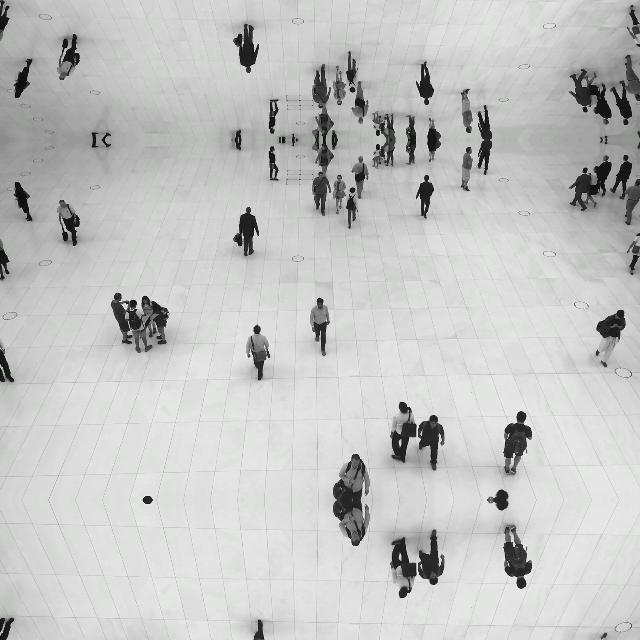person: (503, 411, 533, 475), (503, 525, 533, 589), (333, 454, 371, 500), (333, 500, 371, 546), (596, 310, 626, 368), (390, 402, 418, 462), (390, 538, 418, 598), (417, 415, 445, 471), (417, 529, 445, 585), (124, 299, 152, 353), (232, 206, 260, 256), (232, 24, 260, 74), (246, 324, 270, 382), (310, 298, 330, 357), (111, 292, 133, 344), (56, 200, 80, 247), (146, 300, 170, 346), (56, 34, 80, 80), (568, 168, 592, 212), (568, 68, 592, 112), (611, 154, 633, 200), (611, 80, 633, 126), (312, 171, 332, 217), (312, 63, 332, 109), (350, 82, 370, 125), (350, 156, 370, 198), (416, 174, 434, 220), (416, 61, 434, 106), (624, 178, 640, 226), (624, 54, 640, 102), (13, 181, 32, 221), (13, 59, 32, 99), (141, 294, 157, 338), (314, 144, 334, 178), (314, 102, 334, 136), (596, 155, 612, 197), (596, 83, 612, 125), (0, 339, 14, 383), (626, 232, 640, 276), (626, 5, 640, 48), (461, 146, 474, 192), (461, 88, 474, 134), (585, 166, 599, 208), (585, 72, 599, 114), (477, 140, 493, 176), (477, 104, 493, 140), (332, 174, 346, 214), (332, 66, 346, 106), (246, 618, 270, 640), (346, 187, 358, 229), (346, 51, 358, 93), (0, 239, 10, 281), (0, 0, 10, 41), (268, 146, 280, 180), (268, 100, 280, 134), (382, 140, 396, 167), (382, 114, 396, 140), (426, 140, 442, 162), (426, 118, 442, 140), (0, 617, 14, 640), (595, 632, 626, 640), (406, 140, 416, 164), (372, 144, 382, 168), (406, 116, 416, 140), (372, 112, 382, 136), (487, 490, 509, 500), (487, 500, 509, 510), (91, 140, 111, 148), (91, 132, 111, 140), (234, 140, 242, 150), (234, 130, 242, 140), (332, 140, 338, 150), (314, 140, 320, 150), (332, 130, 338, 140), (314, 130, 320, 140), (278, 140, 286, 144), (600, 140, 608, 144), (278, 136, 286, 140), (600, 136, 608, 140), (292, 140, 296, 146), (292, 134, 296, 140)
